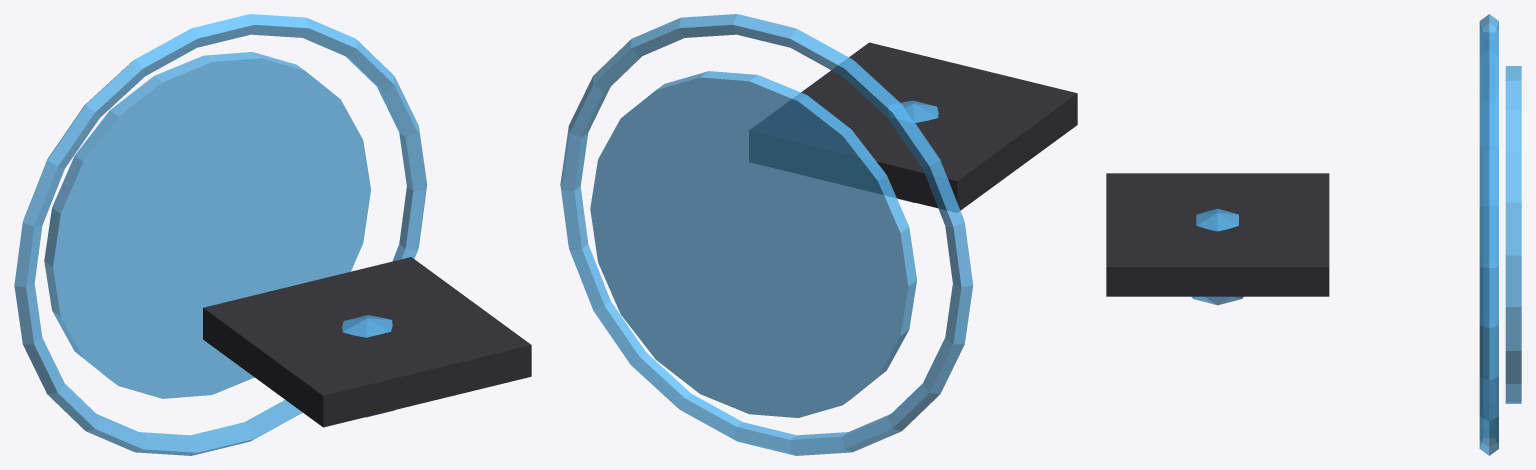
Rendered from combo_counter_token.glb.
3 views of the same model, side by side, from view 1: azimuth 30°, elevation 25°; view 2: azimuth 150°, elevation 25°; view 3: azimuth 270°, elevation 25° (orthographic). The views are drawn at different scales.
Parts seen in each view (by area): view 1: marker_disc, icon_panel, marker_ring, icon_dot; view 2: marker_disc, icon_panel, marker_ring, icon_dot; view 3: icon_panel, marker_ring, marker_disc, icon_dot.
Part boxes in pixels (<box>): marker_disc: <box>44,52,370,398</box>; icon_panel: <box>203,257,531,427</box>; marker_ring: <box>14,14,427,455</box>; icon_dot: <box>342,315,394,417</box>; marker_disc: <box>590,71,916,417</box>; icon_panel: <box>749,42,1077,212</box>; marker_ring: <box>560,14,973,455</box>; icon_dot: <box>897,100,938,202</box>; icon_panel: <box>1106,173,1329,296</box>; marker_ring: <box>1479,14,1498,455</box>; marker_disc: <box>1505,66,1521,403</box>; icon_dot: <box>1191,208,1243,305</box>.
Bounding box in the file's own units: 1.09 × 1.08 × 1.02.
